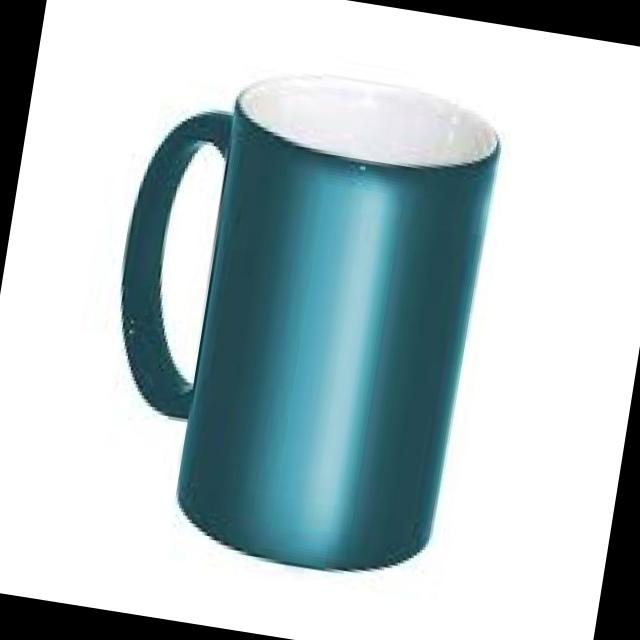Coffee Mug: (79, 46, 509, 584)
